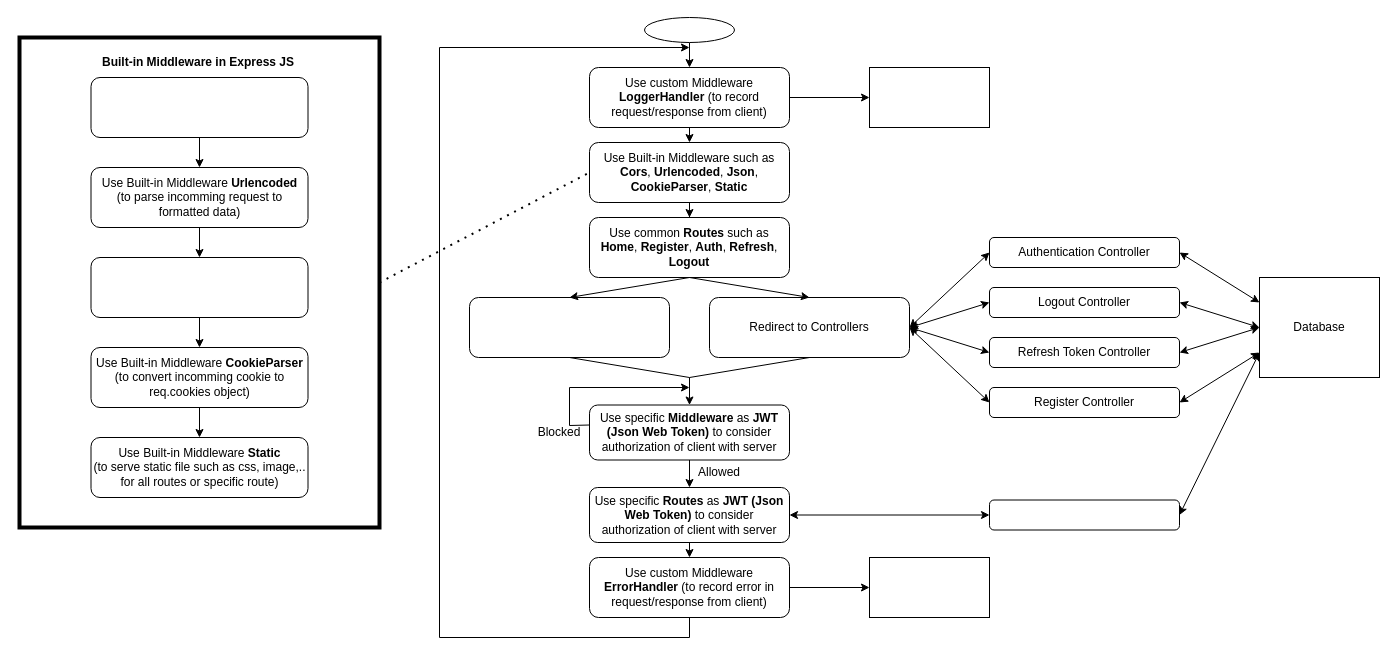
This 1397x663 diagram has some shape labels left out. The shapes that lost their labels are listed below. From the top down, each one's box as (x1, y1, x2, y2) in pixels, then its label:
(644, 16, 734, 42): Start server
(90, 76, 308, 138): Use Built-in Middleware Cors (to share origin resource to all routes)
(868, 66, 990, 128): ReqLog.txt
(90, 256, 308, 318): Use Built-in Middleware Json (to convert incomming data to JSON data)
(468, 296, 670, 358): Redirect to HTML page and response HTTP Status
(988, 499, 1180, 530): Private Controller
(868, 556, 990, 618): ErrorLog.txt
